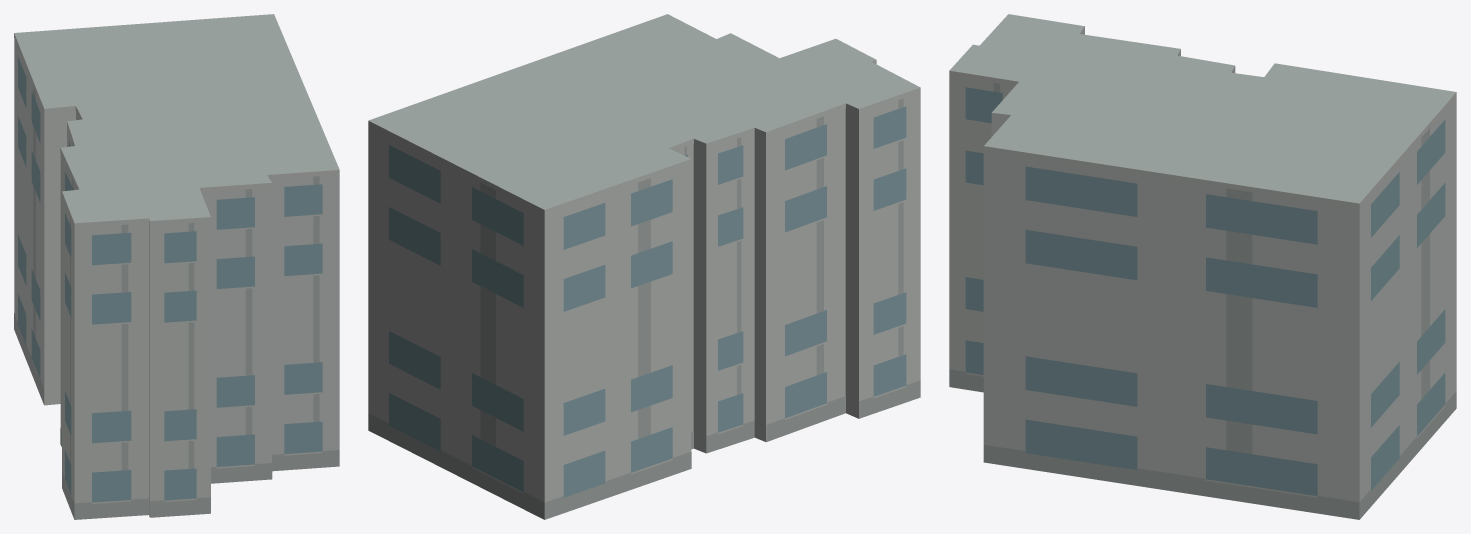
The model's file is survey-upis-32707054.glb.
3 views of the same model, side by side, from view 1: azimuth 30°, elevation 25°; view 2: azimuth 150°, elevation 25°; view 3: azimuth 270°, elevation 25° (orthographic). The views are drawn at different scales.
Parts seen in each view (by area): view 1: survey-upis-32707054.tmp; view 2: survey-upis-32707054.tmp; view 3: survey-upis-32707054.tmp.
Part boxes in pixels (<box>): survey-upis-32707054.tmp: <box>14,14,339,519</box>; survey-upis-32707054.tmp: <box>368,14,920,519</box>; survey-upis-32707054.tmp: <box>949,14,1456,519</box>.
Bounding box in the file's own units: 19.61 × 15.25 × 22.18.
